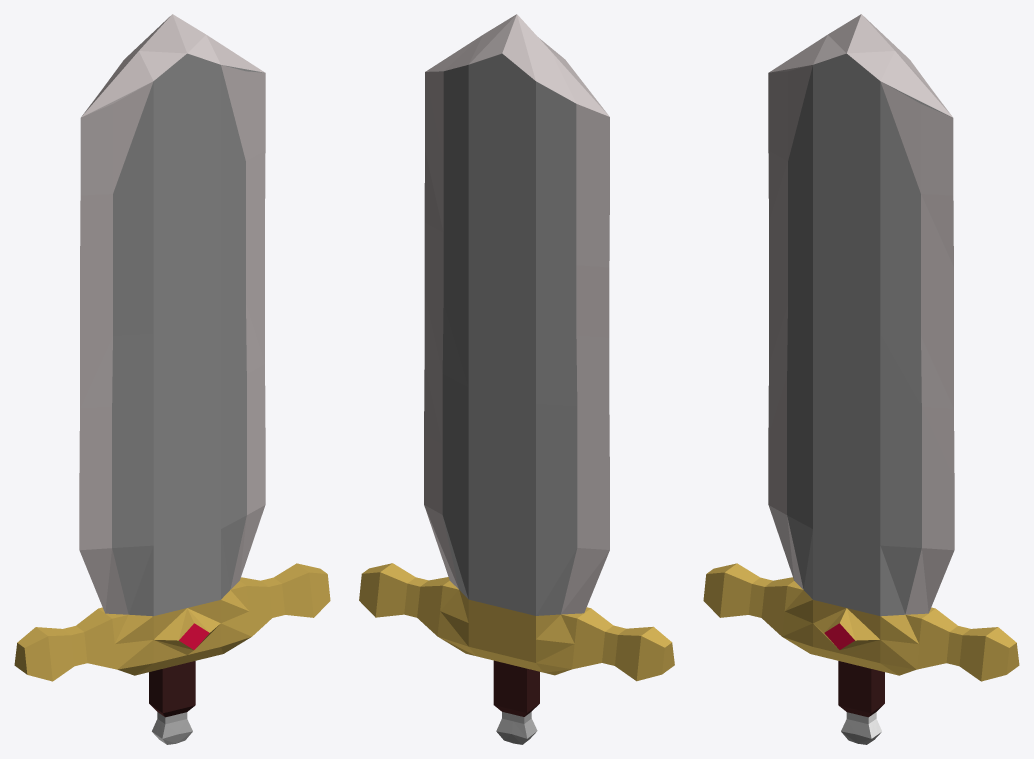
The model's file is BigSwordPAINTED.glb.
3 renders of one model, left to right at view 1: azimuth 30°, elevation 25°; view 2: azimuth 150°, elevation 25°; view 3: azimuth 330°, elevation 25°, orthographic.
Parts seen in each view (by area): view 1: Cube; view 2: Cube; view 3: Cube.
Boxes of the visible parts, <box> form: Cube: <box>14,14,330,744</box>; Cube: <box>359,14,674,744</box>; Cube: <box>703,14,1019,744</box>.
Size of the model in its own units: 1.71 by 3.91 by 0.3567.
1 material, 1 textured.
